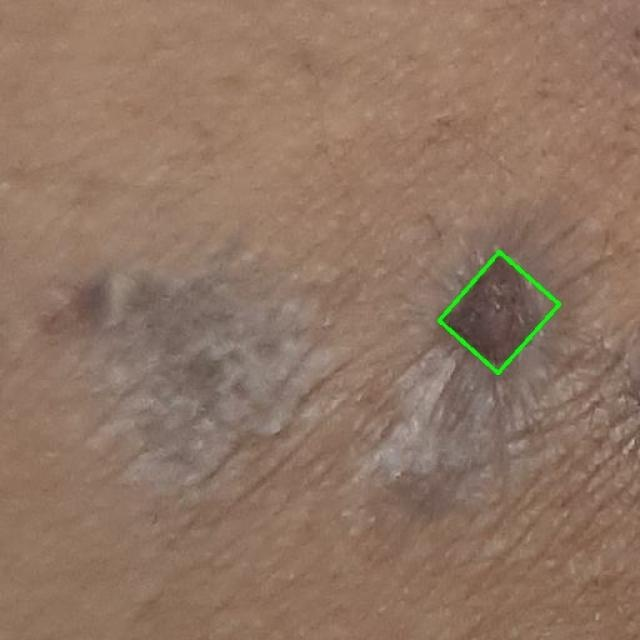Atopic Dermatitis: (439, 252, 559, 373)
